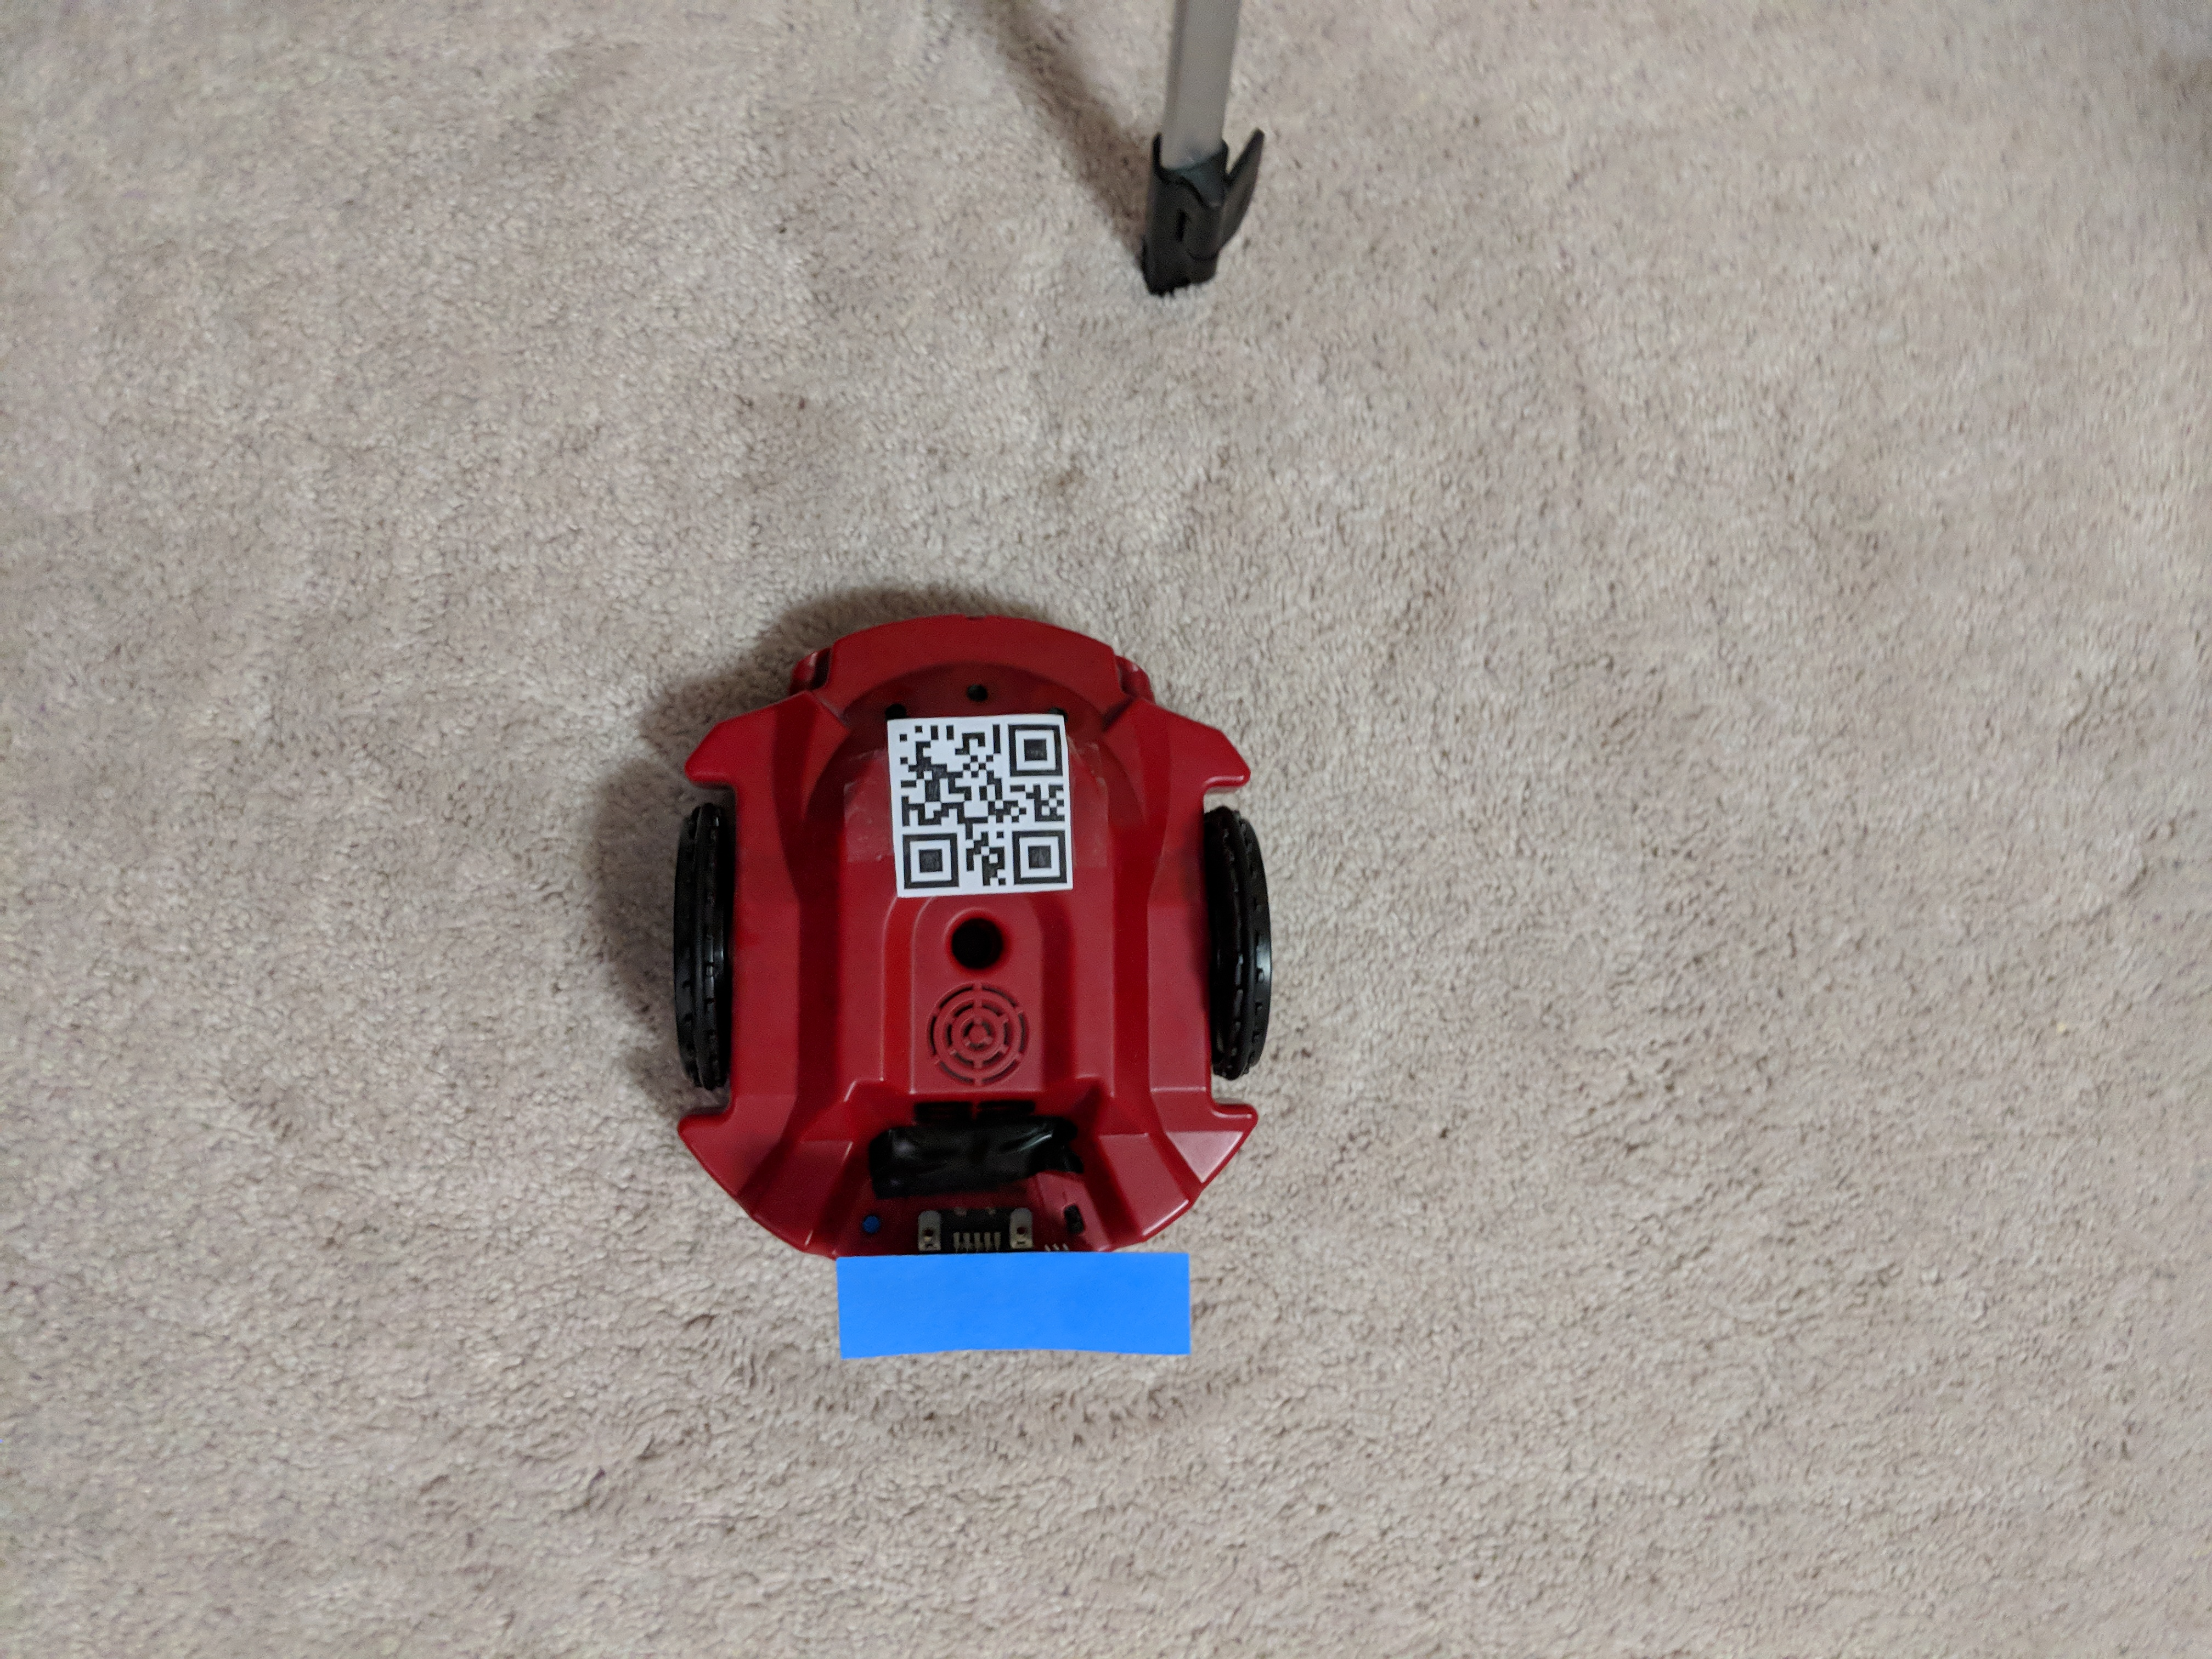chassis: (639, 598, 1284, 1347)
qr: (883, 701, 1089, 894)
